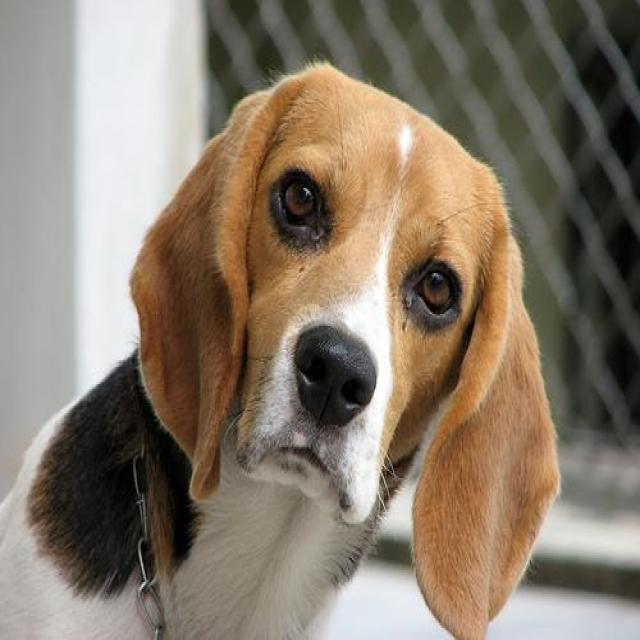beagle: (0, 61, 561, 638)
